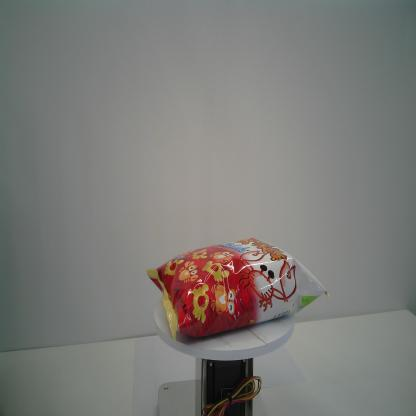Puffed Food: (147, 238, 331, 342)
